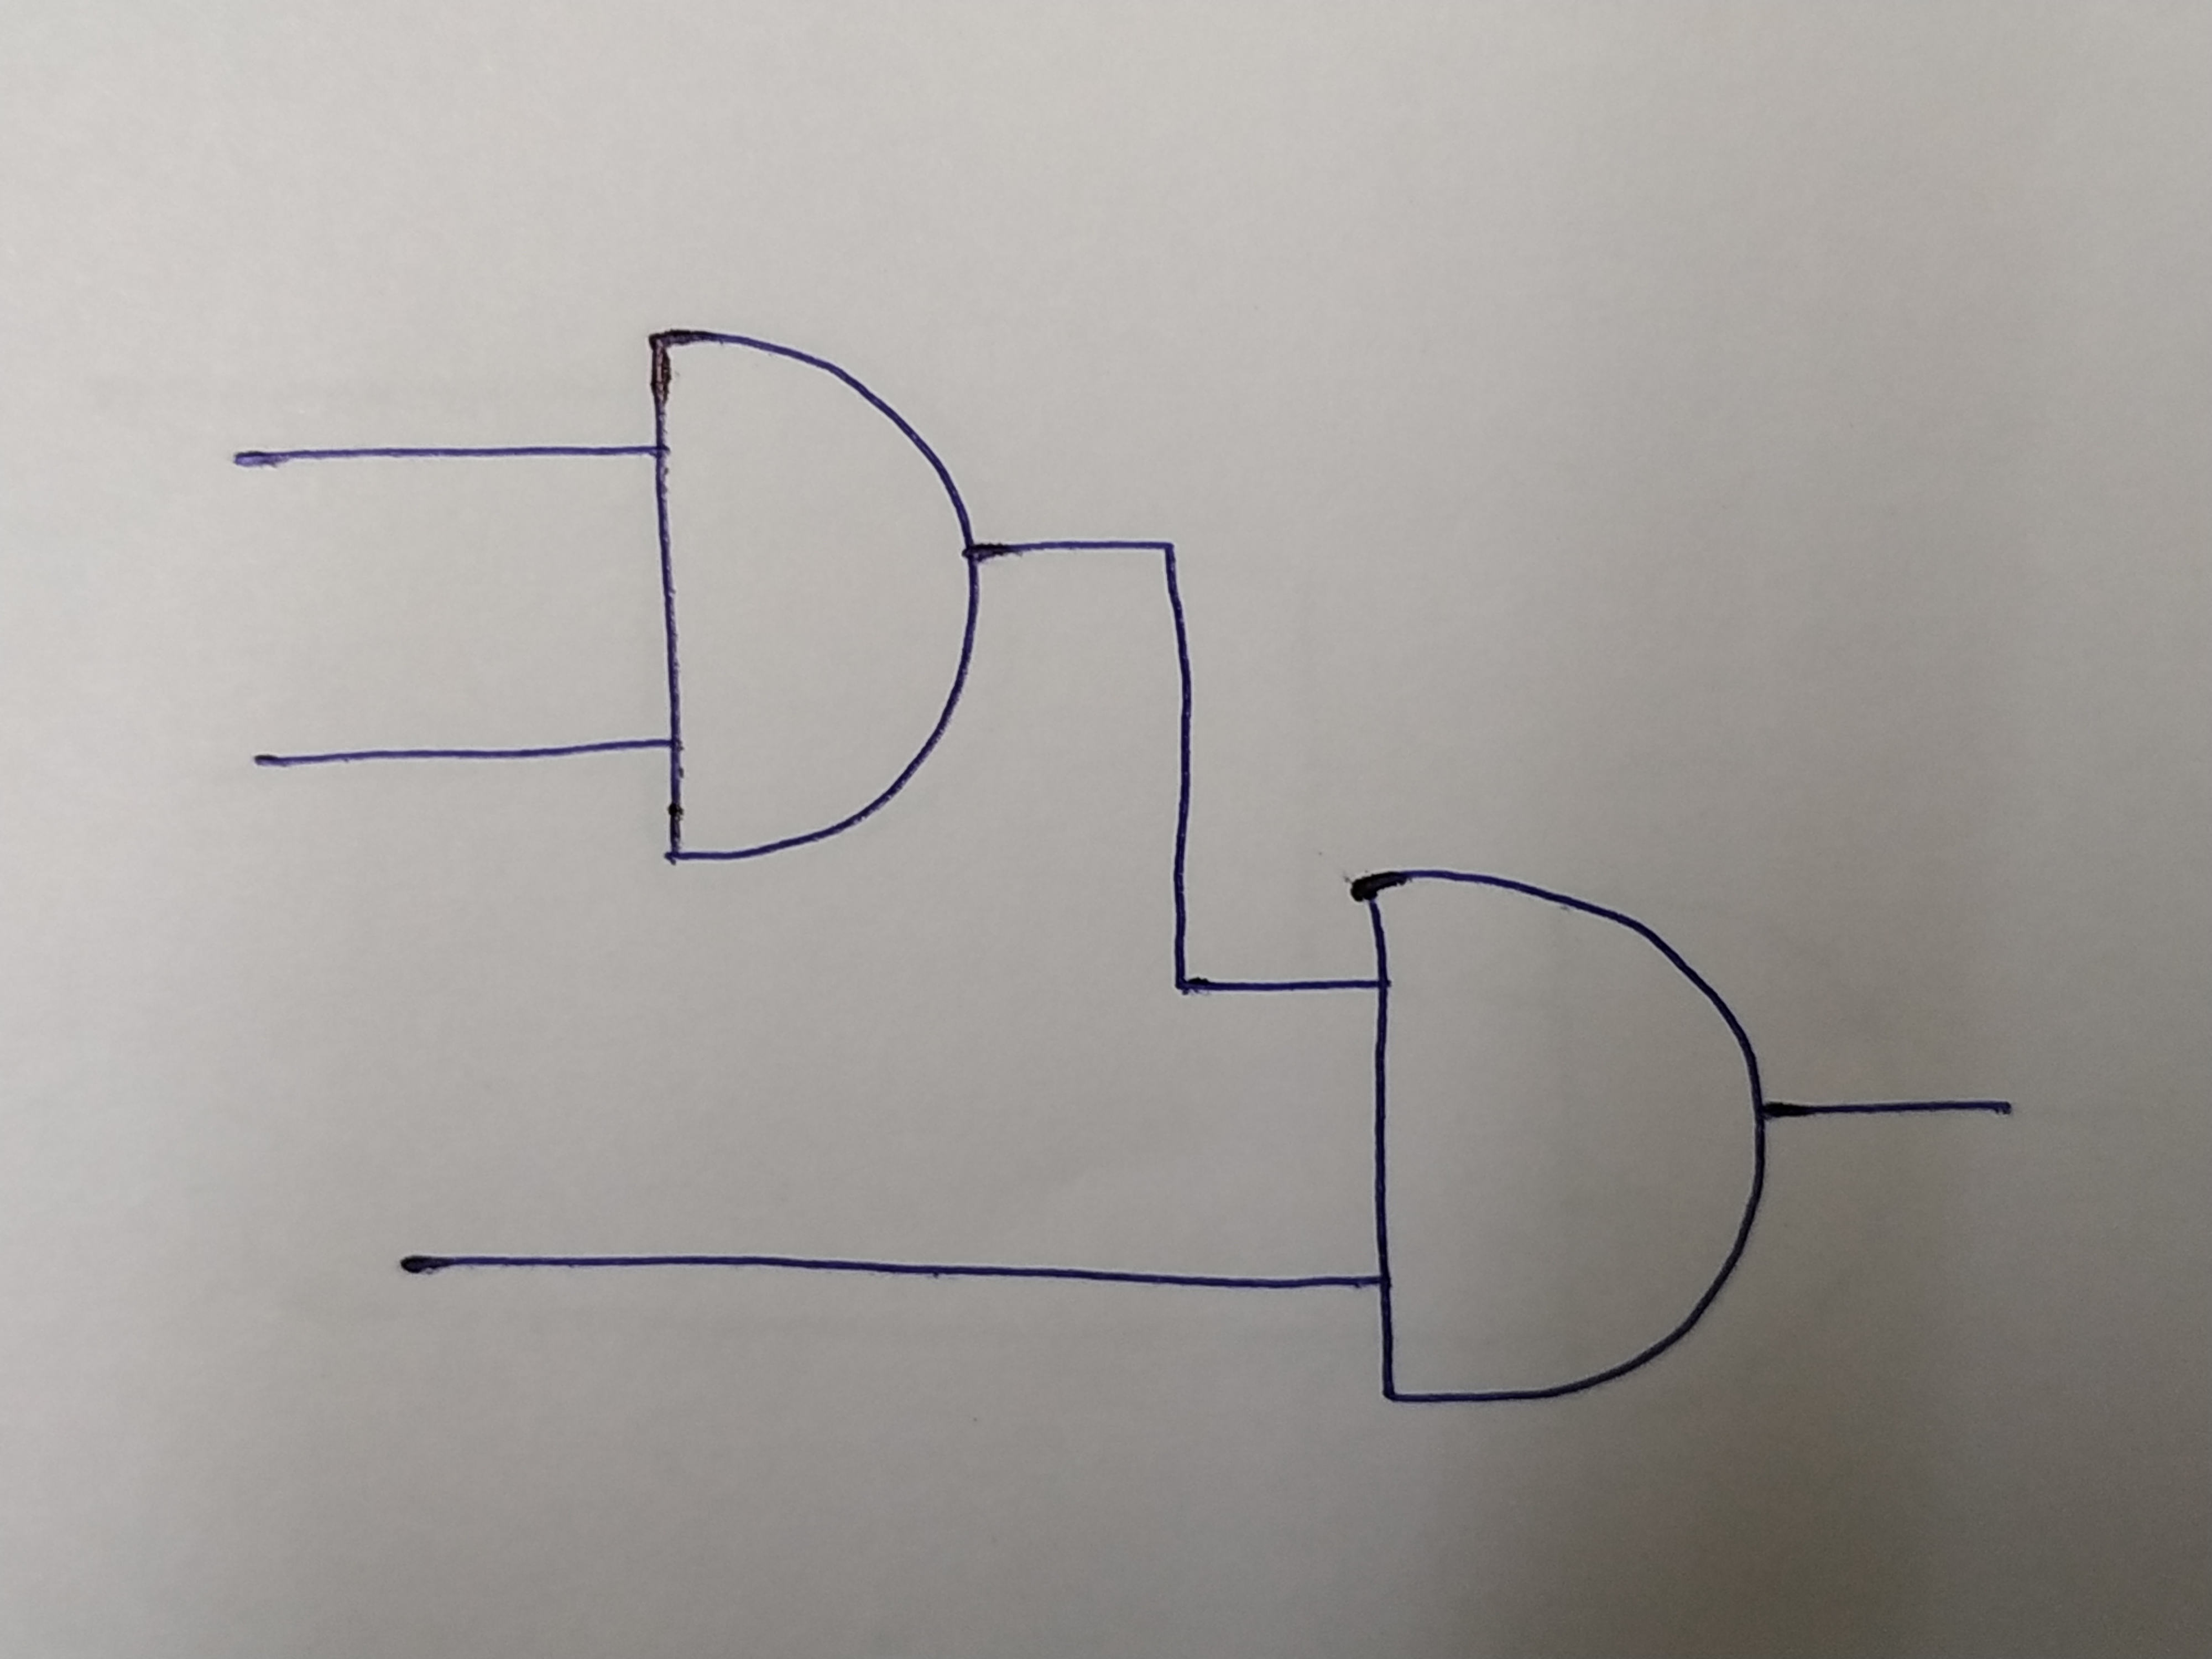and: (1359, 866, 1764, 1408), (651, 324, 981, 864)
